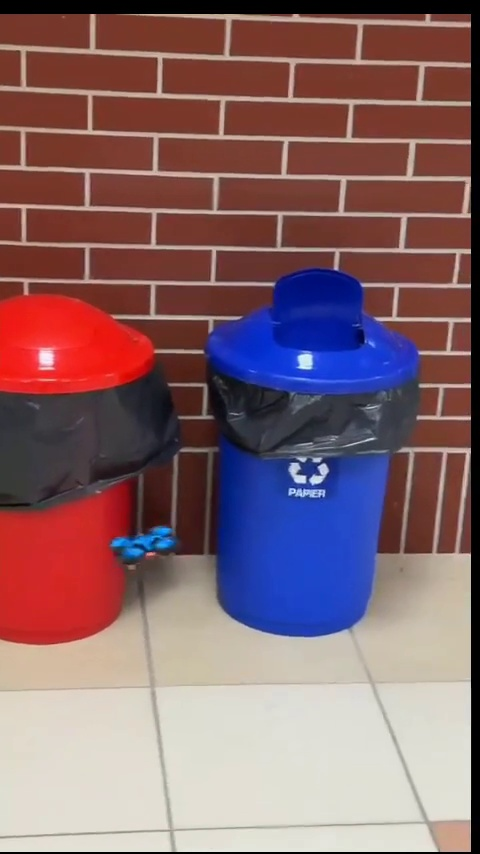drone: (108, 525, 171, 570)
